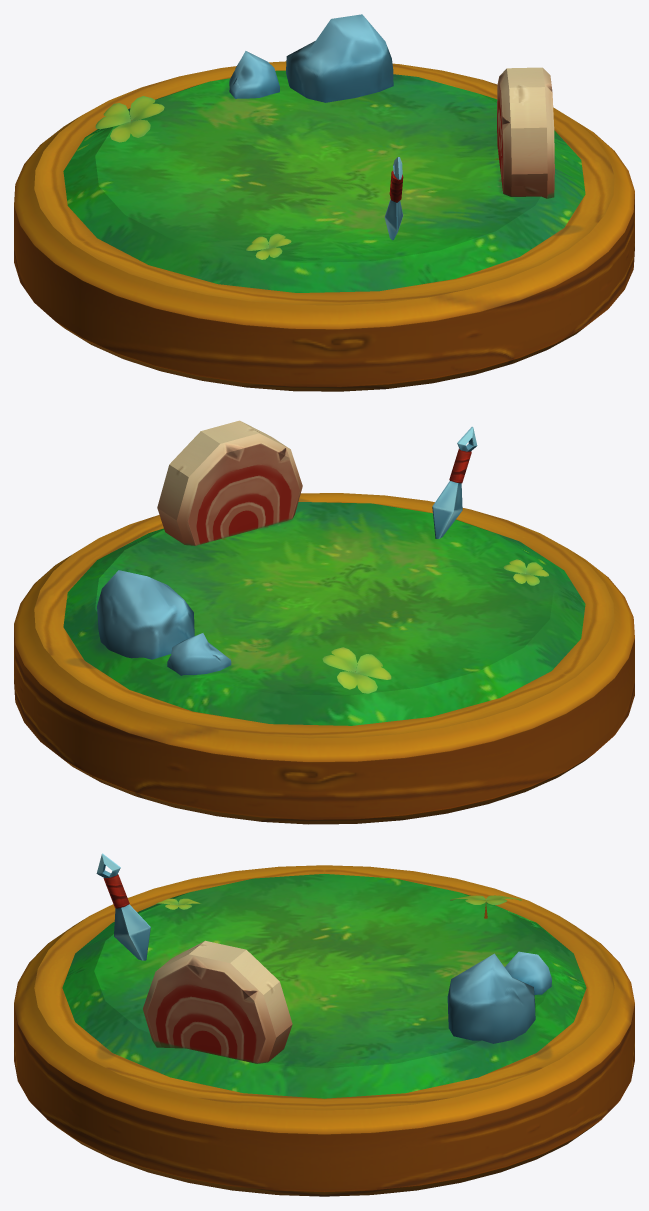
Rendered from stage3.fbx.
3 views of the same model, one above another, from view 1: azimuth 30°, elevation 25°; view 2: azimuth 150°, elevation 25°; view 3: azimuth 270°, elevation 25° (orthographic).
Parts seen in each view (by area): view 1: stage3; view 2: stage3; view 3: stage3.
Boxes of the visible parts, x1=… form: stage3: x1=14, y1=14, x2=634, y2=391; stage3: x1=14, y1=420, x2=634, y2=824; stage3: x1=14, y1=853, x2=634, y2=1196.
Bounding box in the file's own units: 1.34 × 0.472 × 1.34.
